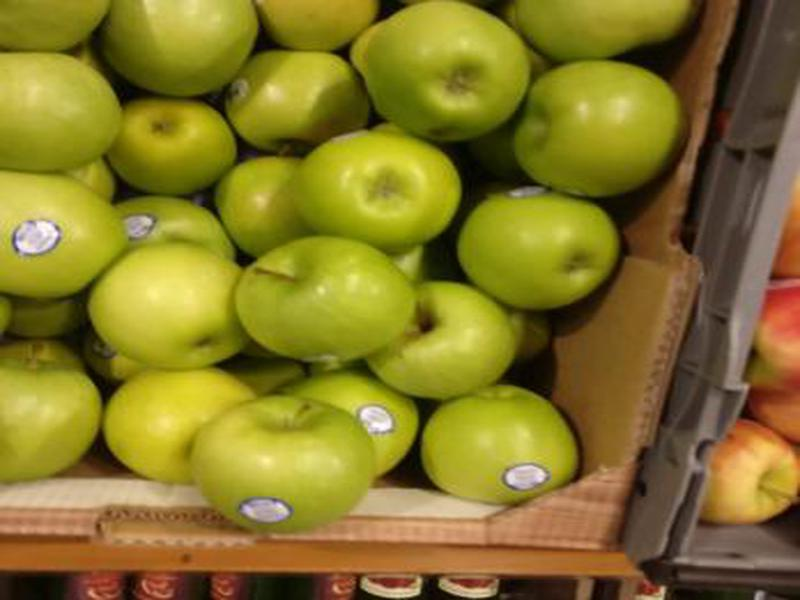green apple: (189, 394, 380, 535), (512, 56, 686, 196), (236, 233, 419, 362), (362, 2, 531, 140), (86, 242, 255, 371), (456, 183, 621, 311), (294, 131, 462, 254), (420, 385, 583, 505), (101, 366, 259, 485), (366, 281, 518, 401), (225, 48, 372, 156), (1, 173, 126, 299), (273, 370, 418, 478), (102, 1, 258, 96), (1, 341, 103, 481), (1, 52, 121, 170), (104, 96, 239, 194), (506, 1, 697, 61), (215, 156, 313, 255), (112, 194, 239, 261), (258, 1, 378, 51), (1, 1, 114, 51), (6, 300, 82, 344), (229, 360, 309, 398), (63, 159, 117, 203), (503, 311, 551, 356)
